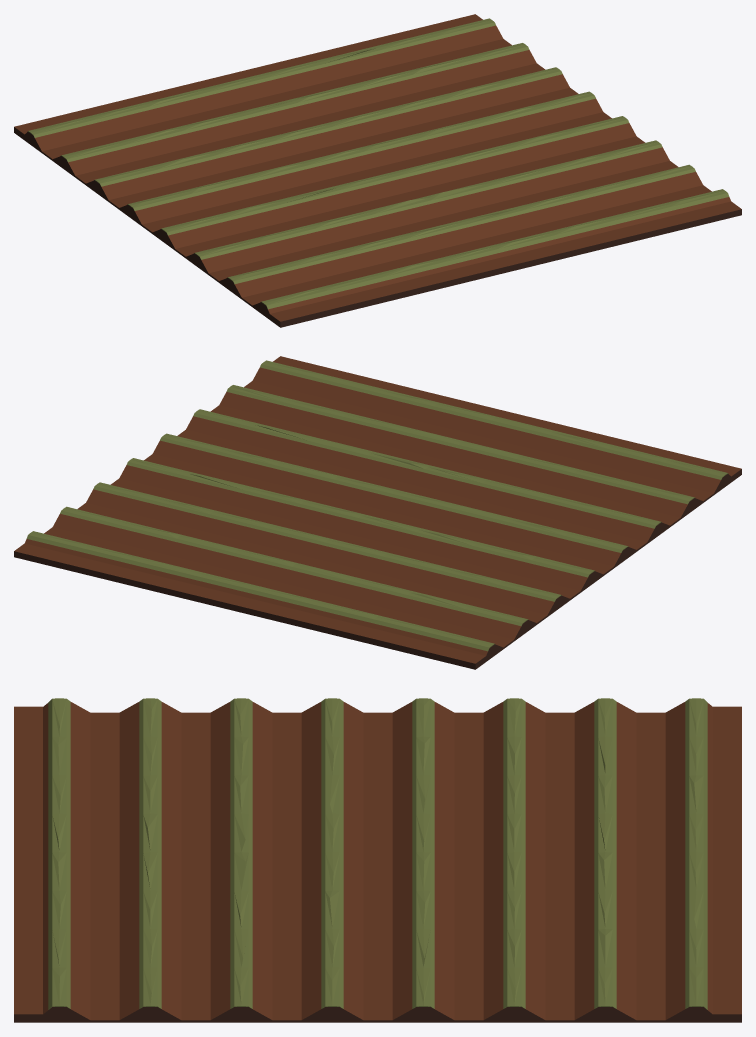
The model's file is central-valley-field-tile-f4ec17.glb.
3 views of the same model, one above another, from view 1: azimuth 30°, elevation 25°; view 2: azimuth 150°, elevation 25°; view 3: azimuth 270°, elevation 25° (orthographic). The views are drawn at different scales.
Visible parts, largest first — view 1: field; view 2: field; view 3: field.
Boxes of the visible parts, x1,y1,x2,y2 form: field: (14,14,741,327); field: (14,356,741,669); field: (14,698,741,1022).
Bounding box in the file's own units: 4 × 0.1103 × 4.
